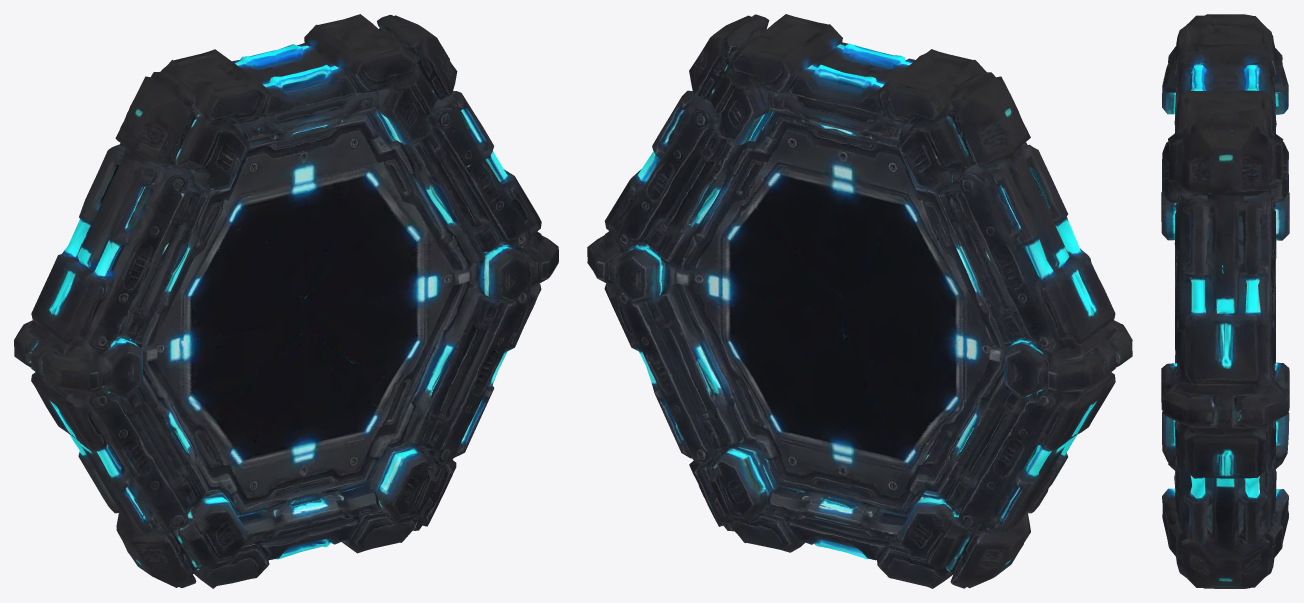
Rendered from node_social_blue.glb.
The picture shows the model from 3 angles, left to right: view 1: azimuth 30°, elevation 25°; view 2: azimuth 150°, elevation 25°; view 3: azimuth 270°, elevation 25°; orthographic projection. The views are drawn at different scales.
Bounding box in the file's own units: 2 × 1.9 × 0.4704.
1 material, 1 textured.
